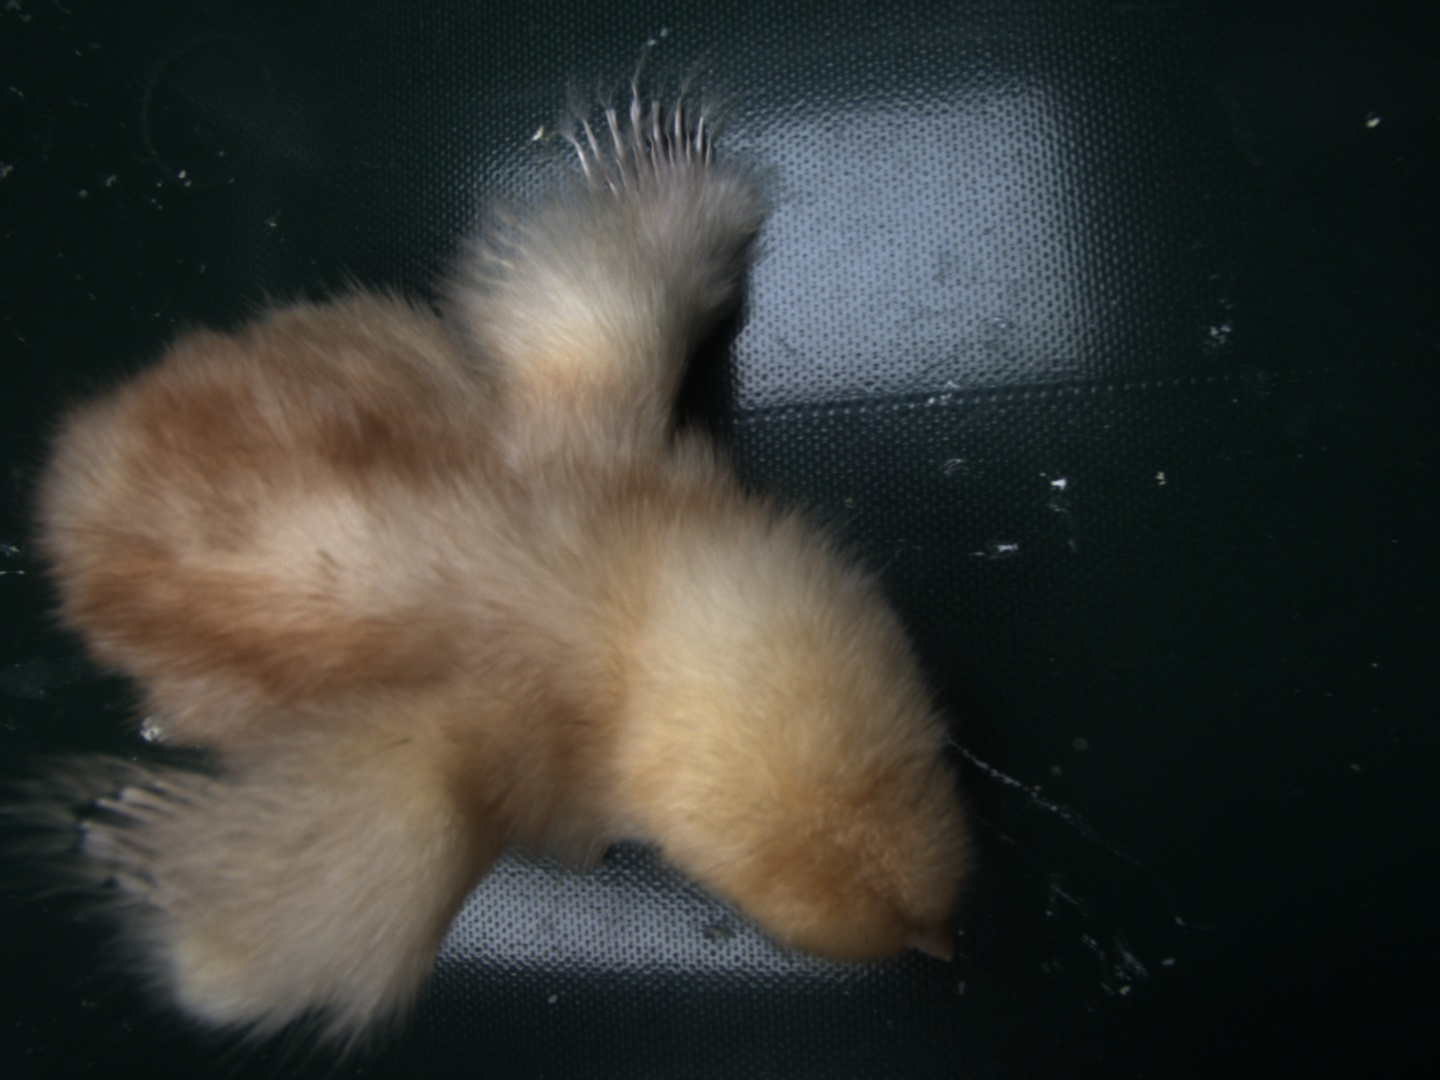female: (565, 96, 721, 201)
